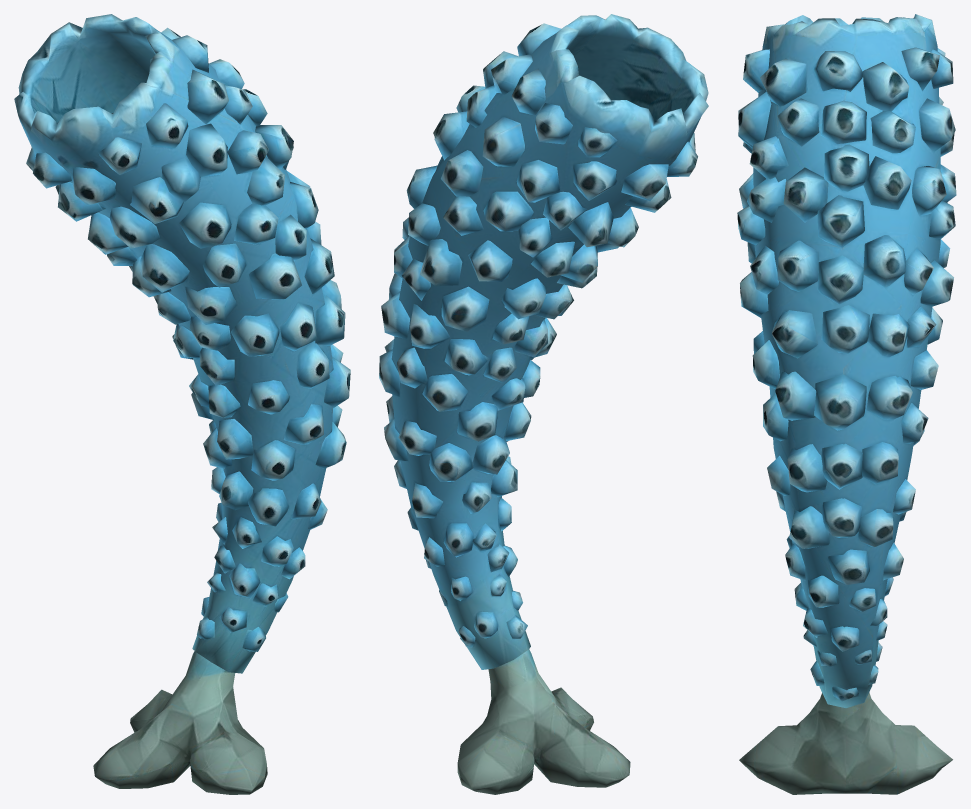
Rendered from Azure_Coral_Horn.glb.
The picture shows the model from 3 angles, left to right: view 1: azimuth 30°, elevation 25°; view 2: azimuth 150°, elevation 25°; view 3: azimuth 270°, elevation 25°; orthographic projection. The views are drawn at different scales.
Size of the model in its own units: 0.4307 by 1 by 0.2715.
Materials: 1 (1 with a texture image).
